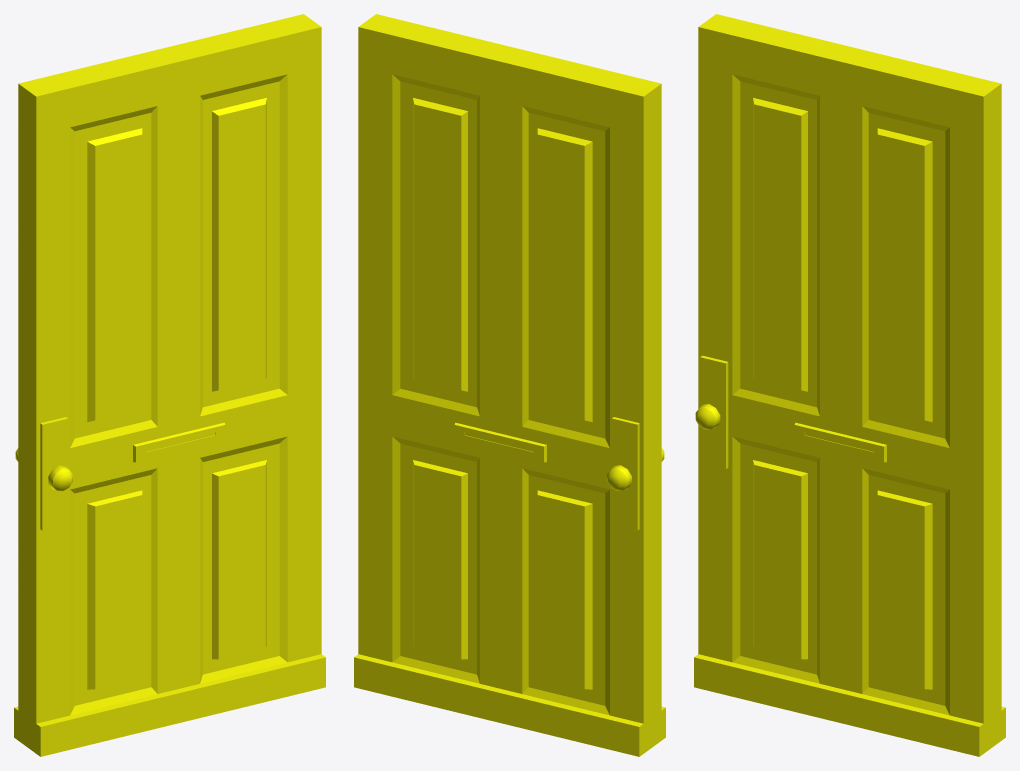
The model's file is door-1.glb.
The picture shows the model from 3 angles, left to right: view 1: azimuth 30°, elevation 25°; view 2: azimuth 150°, elevation 25°; view 3: azimuth 330°, elevation 25°; orthographic projection.
Parts seen in each view (by area): view 1: Door_1; view 2: Door_1; view 3: Door_1.
Boxes of the visible parts, x1,y1,x2,y2 form: Door_1: (14,14,325,756); Door_1: (354,14,665,756); Door_1: (694,14,1005,756).
Size of the model in its own units: 1 by 2.2 by 0.2599.
1 material, 1 textured.
